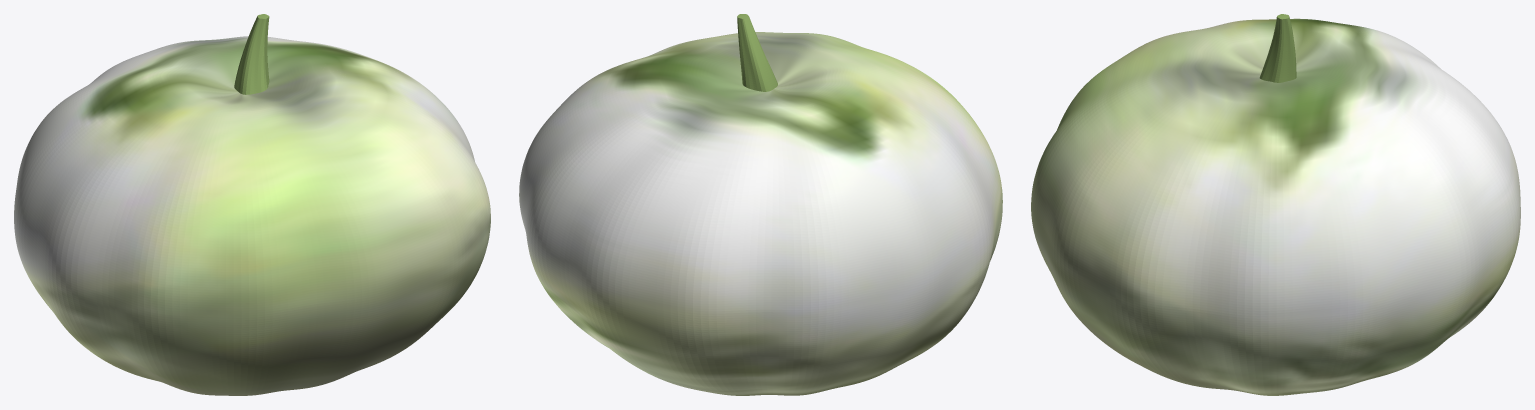
File: onion.glb
3 views of the same model, side by side, from view 1: azimuth 30°, elevation 25°; view 2: azimuth 150°, elevation 25°; view 3: azimuth 270°, elevation 25° (orthographic). The views are drawn at different scales.
Parts seen in each view (by area): view 1: skin, stem; view 2: skin, stem; view 3: skin, stem.
Part boxes in pixels (x1,y1,x2,y2): skin: [14, 36, 490, 395]; stem: [234, 14, 269, 94]; skin: [519, 32, 1002, 395]; stem: [737, 14, 777, 91]; skin: [1031, 18, 1520, 395]; stem: [1259, 14, 1296, 82].
Bounding box in the file's own units: 0.07 × 0.055 × 0.068.
2 materials, 1 textured.
